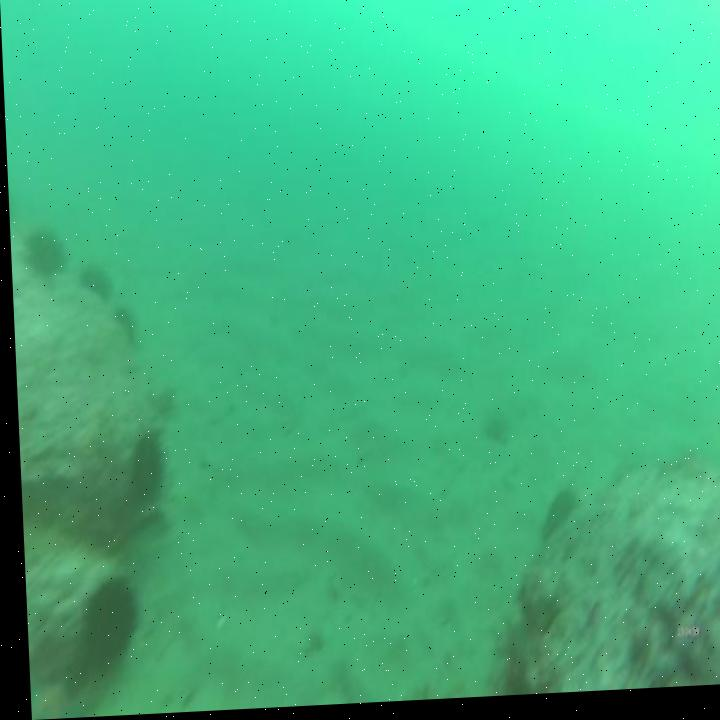echinus: (78, 582, 133, 659), (128, 441, 160, 504), (24, 229, 63, 275), (79, 261, 109, 296)
